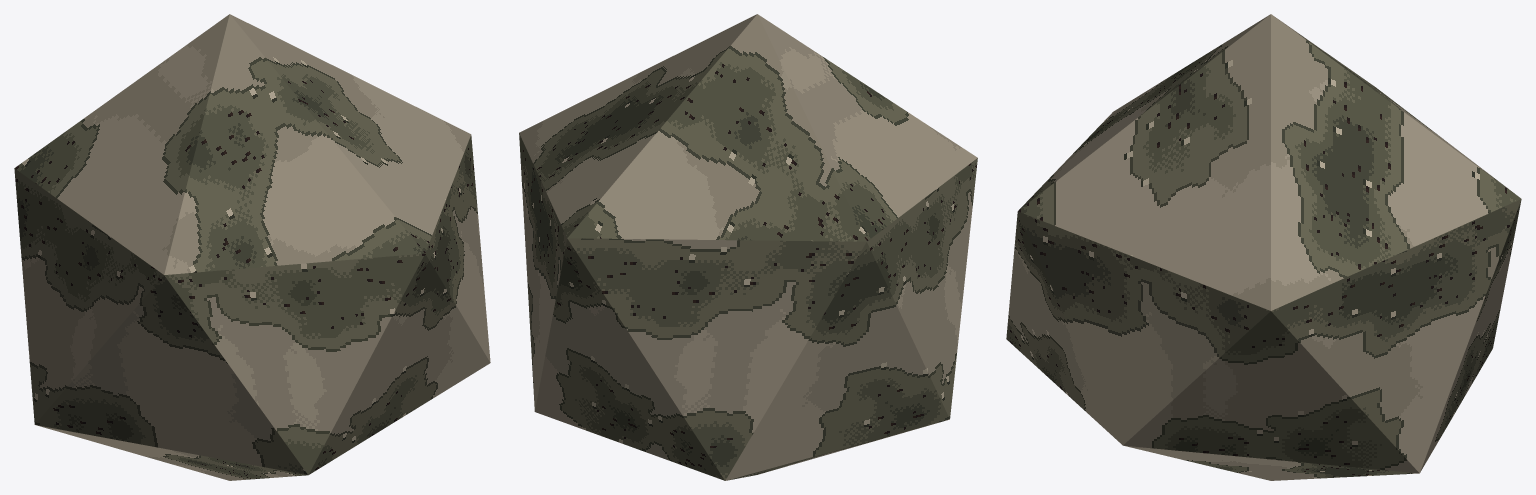
The model's file is ANC_Rock_C.glb.
The picture shows the model from 3 angles, left to right: view 1: azimuth 30°, elevation 25°; view 2: azimuth 150°, elevation 25°; view 3: azimuth 270°, elevation 25°; orthographic projection.
Visible parts, largest first — view 1: Rock; view 2: Rock; view 3: Rock.
Part boxes in pixels (<box>): Rock: <box>14,14,490,480</box>; Rock: <box>519,14,977,480</box>; Rock: <box>1006,14,1521,480</box>.
Size of the model in its own units: 1.45 by 1.48 by 1.48.
1 material, 1 textured.
